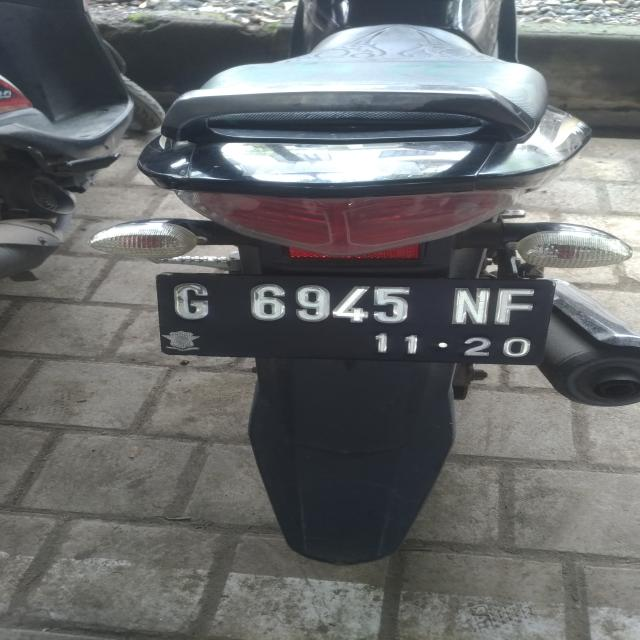plate: (155, 274, 557, 365)
